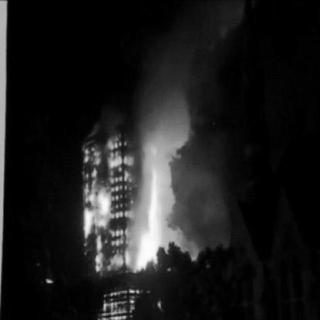Fire: (81, 124, 164, 274)
